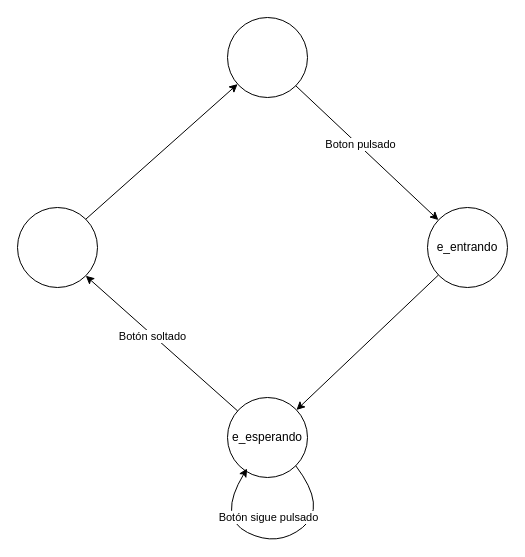
Some shapes in this 525 by 557 pixel diagram are drawn without their labels. The centre of each missing label's shape, as x and y in pixels:
"e_reposo" belongs at point 267,57.
"e_soltado" belongs at point 57,247.
